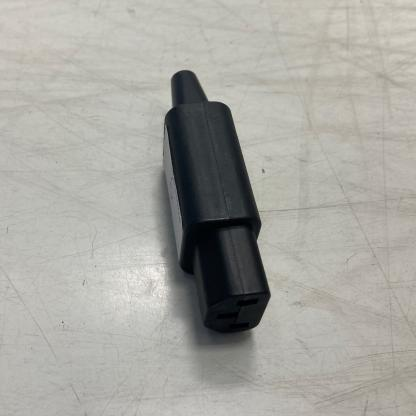SP0000006: (91, 27, 331, 370)
